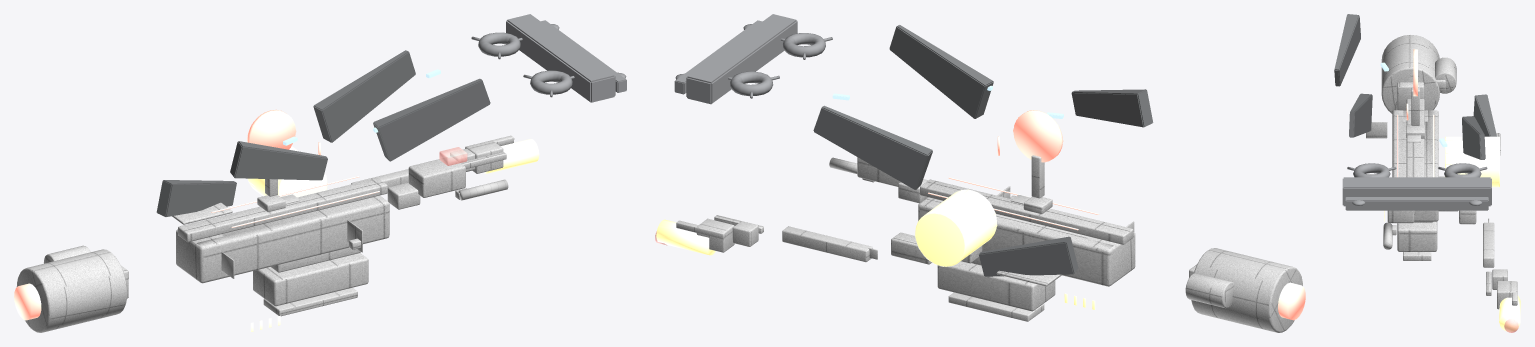
The model's file is var_ashline_rig_corsair_blade_v01.glb.
3 renders of one model, left to right at view 1: azimuth 30°, elevation 25°; view 2: azimuth 150°, elevation 25°; view 3: azimuth 270°, elevation 25°, orthographic. The views are drawn at different scales.
Visible parts, largest first — view 1: LOD0_Merged_Material_Hull, LOD0_Merged_Material_Mechanical, VAR_CORSAIR_blade1, VAR_CORSAIR_ramlip_main, VAR_CORSAIR_blade0, VAR_CORSAIR_blade3, VAR_CORSAIR_blade2, LOD0_Merged_Material_Cyan, LOD0_HOOK_TETHER_SPOOL, VAR_CORSAIR_weaponcollar_n, VAR_CORSAIR_weaponcollar_p, LOD0_HOOK_DRIVE_CORE (+4 smaller); view 2: LOD0_Merged_Material_Hull, LOD0_Merged_Material_Mechanical, LOD0_HOOK_TETHER_SPOOL, VAR_CORSAIR_blade0, VAR_CORSAIR_ramlip_main, VAR_CORSAIR_blade1, VAR_CORSAIR_blade2, VAR_CORSAIR_blade3, LOD0_Merged_Material_Cyan, LOD2_Merged_Material_Cyan, VAR_CORSAIR_weaponcollar_p, VAR_CORSAIR_weaponcollar_n (+6 smaller); view 3: LOD0_Merged_Material_Mechanical, LOD0_Merged_Material_Hull, VAR_CORSAIR_ramlip_main, VAR_CORSAIR_ramlip_edge, LOD0_HOOK_TETHER_SPOOL, VAR_CORSAIR_blade3, VAR_CORSAIR_blade1, VAR_CORSAIR_blade0, LOD1_Merged_Material_Mechanical, VAR_CORSAIR_blade2, LOD2_HOOK_TETHER_SPOOL, LOD0_Merged_Material_Cyan (+7 smaller).
Part boxes in pixels (x1,y1,x2,y2): LOD0_Merged_Material_Hull: [121, 157, 465, 306]; LOD0_Merged_Material_Mechanical: [17, 135, 513, 332]; VAR_CORSAIR_blade1: [373, 78, 490, 161]; VAR_CORSAIR_ramlip_main: [506, 14, 615, 102]; VAR_CORSAIR_blade0: [313, 50, 415, 142]; VAR_CORSAIR_blade3: [230, 141, 327, 180]; VAR_CORSAIR_blade2: [156, 180, 236, 216]; LOD0_Merged_Material_Cyan: [211, 109, 379, 227]; LOD0_HOOK_TETHER_SPOOL: [248, 139, 538, 197]; VAR_CORSAIR_weaponcollar_n: [530, 70, 572, 94]; VAR_CORSAIR_weaponcollar_p: [478, 32, 520, 56]; LOD0_HOOK_DRIVE_CORE: [14, 283, 41, 320]; LOD0_Merged_Material_Hull: [857, 157, 1196, 311]; LOD0_Merged_Material_Mechanical: [676, 155, 1302, 332]; LOD0_HOOK_TETHER_SPOOL: [656, 189, 996, 266]; VAR_CORSAIR_blade0: [813, 105, 932, 189]; VAR_CORSAIR_ramlip_main: [686, 14, 797, 104]; VAR_CORSAIR_blade1: [889, 25, 993, 118]; VAR_CORSAIR_blade2: [979, 236, 1078, 276]; VAR_CORSAIR_blade3: [1071, 89, 1153, 127]; LOD0_Merged_Material_Cyan: [928, 110, 1099, 230]; LOD2_Merged_Material_Cyan: [1013, 110, 1063, 162]; VAR_CORSAIR_weaponcollar_p: [730, 71, 773, 96]; VAR_CORSAIR_weaponcollar_n: [782, 33, 825, 57]; LOD0_Merged_Material_Mechanical: [1366, 35, 1517, 309]; LOD0_Merged_Material_Hull: [1387, 80, 1500, 251]; VAR_CORSAIR_ramlip_main: [1342, 177, 1491, 206]; VAR_CORSAIR_ramlip_edge: [1345, 197, 1488, 210]; LOD0_HOOK_TETHER_SPOOL: [1445, 136, 1520, 331]; VAR_CORSAIR_blade3: [1334, 14, 1360, 86]; VAR_CORSAIR_blade1: [1349, 93, 1372, 137]; VAR_CORSAIR_blade0: [1462, 116, 1485, 159]; LOD1_Merged_Material_Mechanical: [1381, 35, 1517, 308]; VAR_CORSAIR_blade2: [1473, 94, 1500, 150]; LOD2_HOOK_TETHER_SPOOL: [1445, 137, 1520, 331]; LOD0_Merged_Material_Cyan: [1397, 49, 1434, 177].
Size of what is drawn, in the model's own units: 17.82 by 6.45 by 5.73.
Materials: 8 (5 with a texture image).
